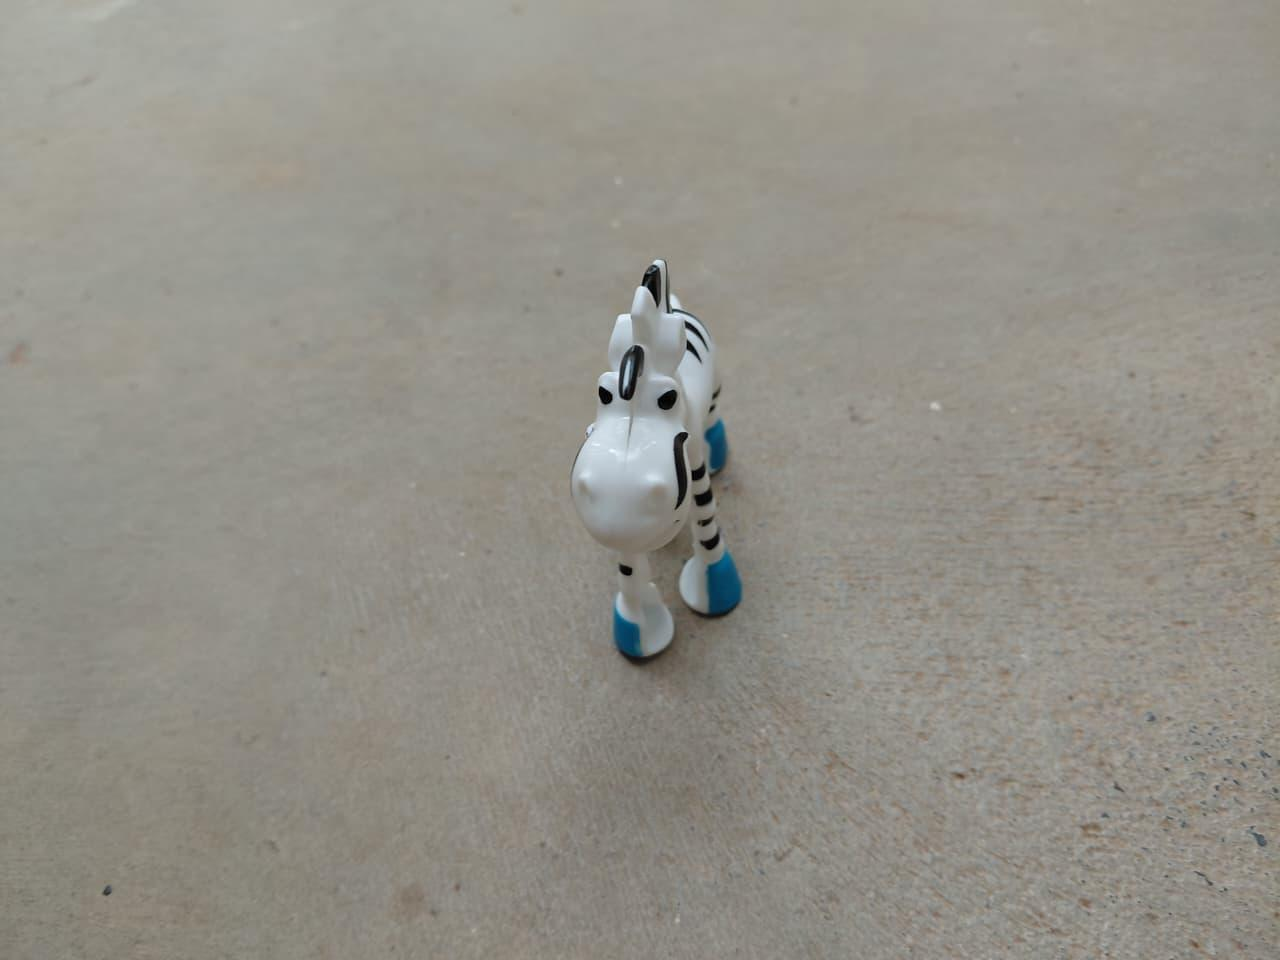zebra: (556, 246, 755, 670)
